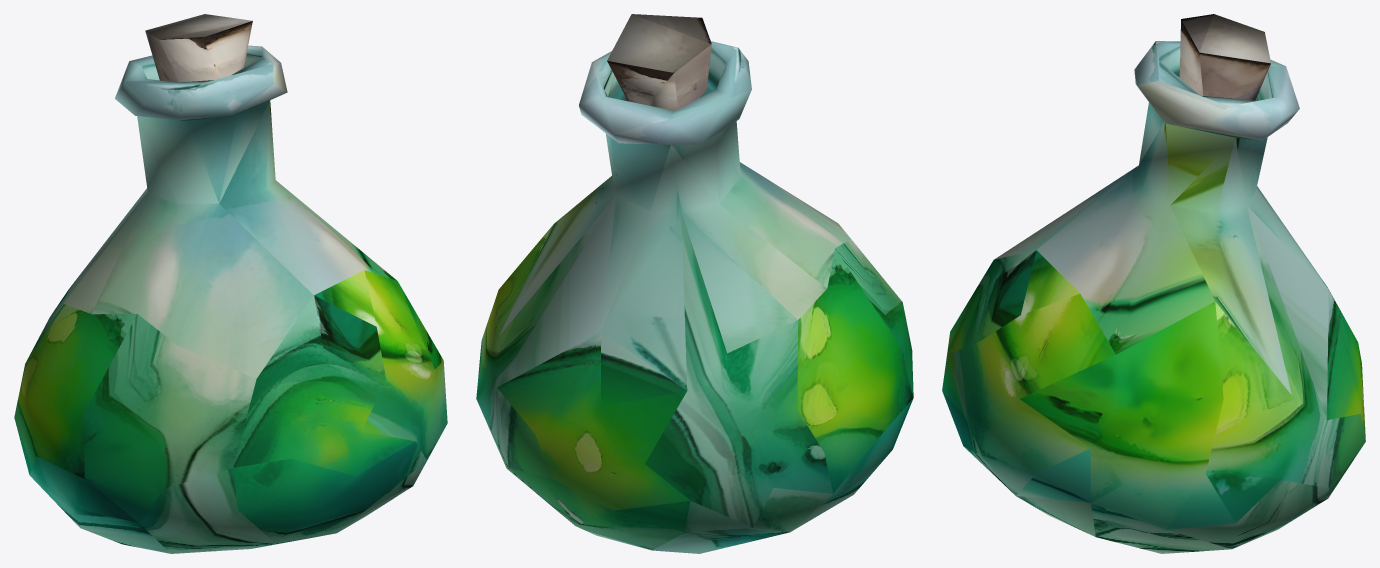
The model's file is green.fbx.
3 views of the same model, side by side, from view 1: azimuth 30°, elevation 25°; view 2: azimuth 150°, elevation 25°; view 3: azimuth 270°, elevation 25° (orthographic). The views are drawn at different scales.
Parts seen in each view (by area): view 1: meshes[0]; view 2: meshes[0]; view 3: meshes[0].
Boxes of the visible parts, bbox=[...] form: meshes[0]: bbox=[14, 14, 447, 553]; meshes[0]: bbox=[476, 14, 913, 553]; meshes[0]: bbox=[942, 14, 1365, 553].
Bounding box in the file's own units: 79.95 × 99.29 × 78.13.
Materials: 1 (1 with a texture image).
